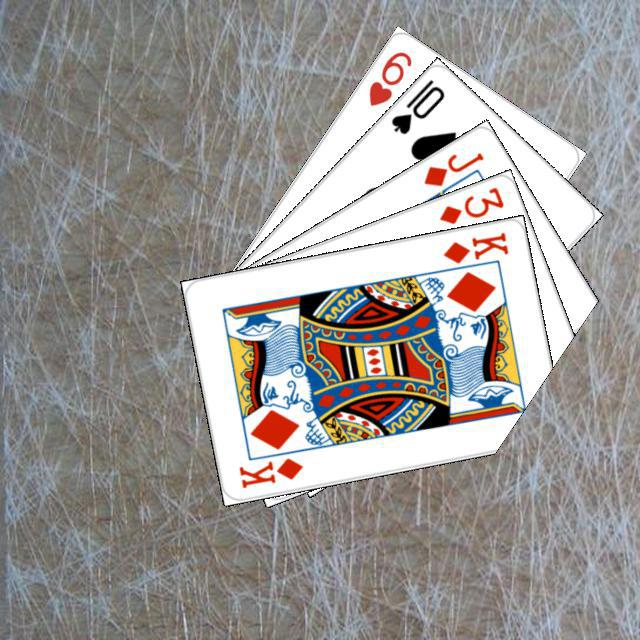10s: (385, 74, 447, 136)
3d: (434, 182, 506, 226)
6h: (363, 46, 414, 108)
Jd: (418, 147, 486, 189)
Kd: (438, 227, 510, 265), (234, 452, 305, 490)
